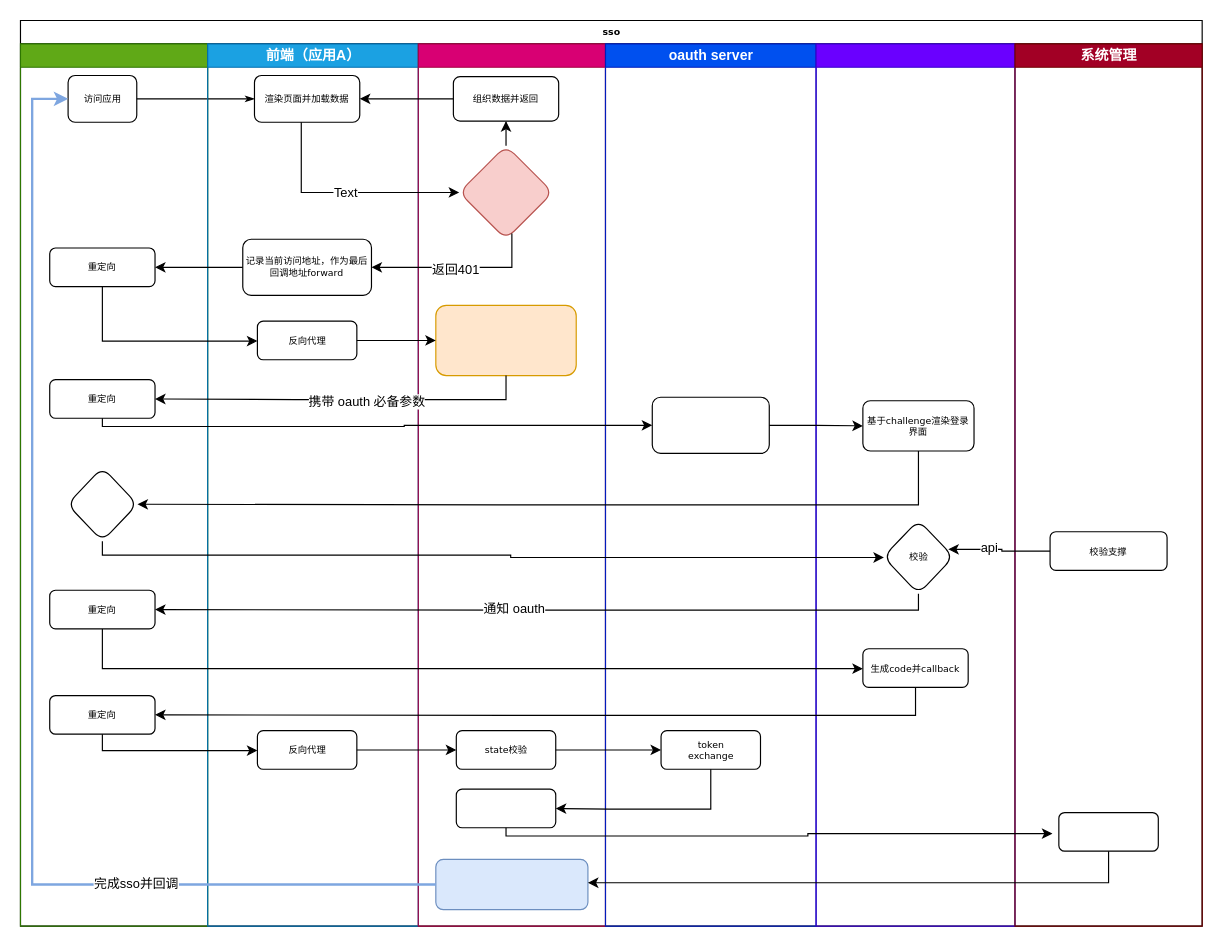
The diagram is 1223 pixels wide and 947 high, and some of its shapes have lost their labels. Here are the shapes that lost their labels. From the top down, the box of each, then its label:
(458, 144, 553, 239): security
(435, 304, 576, 376): starter：获取 oauth client 配置 发起sso 流程
(651, 396, 769, 453): 创建challenge，会话保存相关参数
(66, 466, 137, 541): 登录
(19, 43, 208, 926): 浏览器
(417, 43, 605, 926): 后端（应用A）
(815, 43, 1015, 926): idp
(455, 788, 556, 828): get userId
(1058, 811, 1158, 851): 基于userId查询
(435, 858, 588, 910): 1、session create 2、securityContext create
